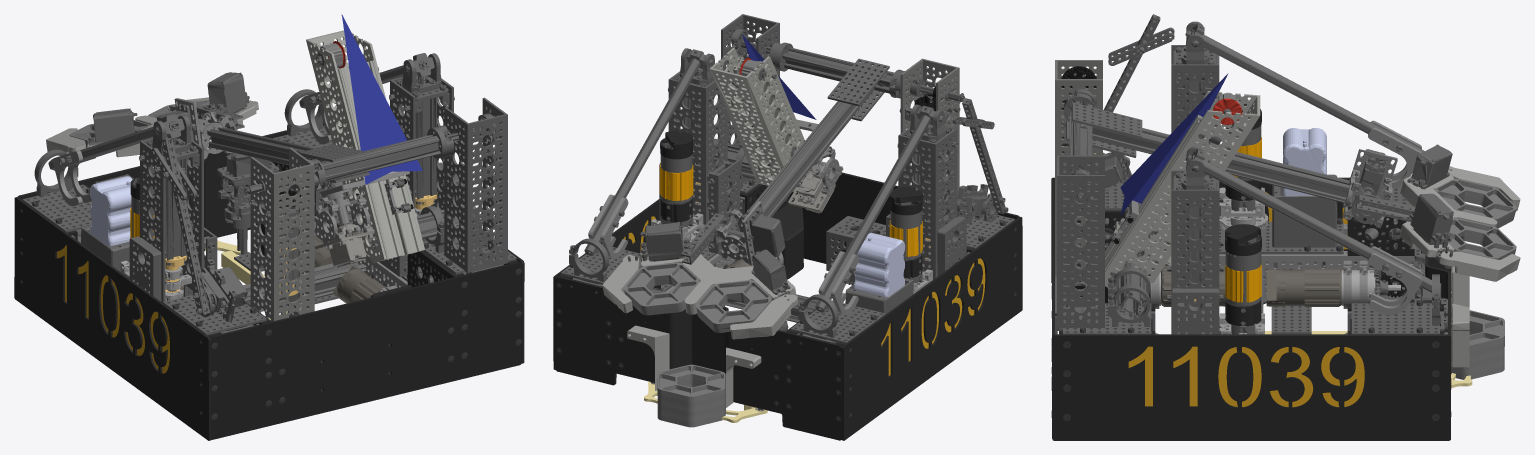
Rendered from cobra-v1.glb.
3 views of the same model, side by side, from view 1: azimuth 30°, elevation 25°; view 2: azimuth 150°, elevation 25°; view 3: azimuth 270°, elevation 25° (orthographic). The views are drawn at different scales.
Visible parts, largest first — view 1: Body1; view 2: Body1; view 3: Body1.
Boxes of the visible parts, x1=… form: Body1: x1=14, y1=14, x2=524, y2=440; Body1: x1=553, y1=14, x2=1022, y2=440; Body1: x1=1051, y1=14, x2=1520, y2=440.
Size of the model in its own units: 0.3753 by 0.3592 by 0.4683.
Materials: 1 (1 with a texture image).
